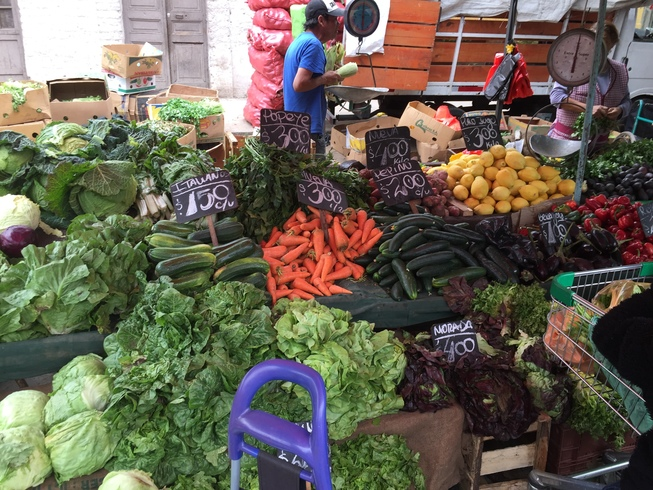precio: (164, 170, 250, 225), (456, 110, 525, 169), (256, 103, 321, 165), (419, 314, 490, 370), (374, 161, 442, 208), (366, 120, 423, 171), (295, 165, 354, 214), (535, 204, 585, 260)
